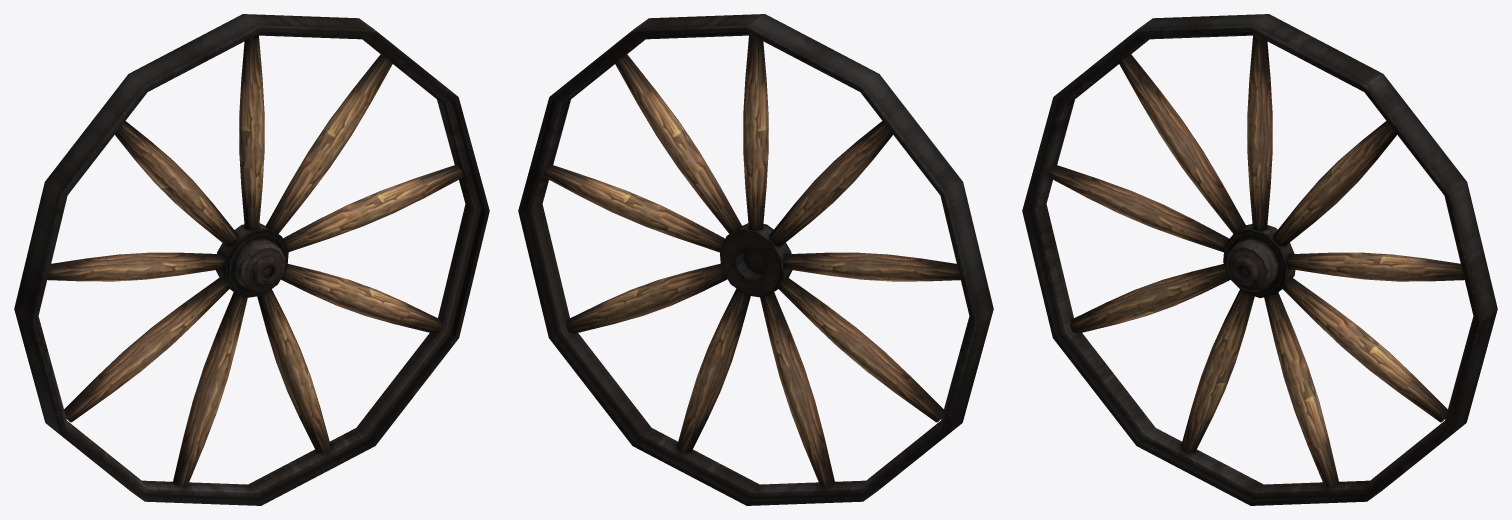
The model's file is Wheel01.FBX.
3 views of the same model, side by side, from view 1: azimuth 30°, elevation 25°; view 2: azimuth 150°, elevation 25°; view 3: azimuth 330°, elevation 25° (orthographic).
Visible parts, largest first — view 1: wheel; view 2: wheel; view 3: wheel.
Boxes of the visible parts, x1,y1,x2,y2 form: wheel: [14, 14, 489, 505]; wheel: [518, 14, 993, 505]; wheel: [1022, 14, 1497, 505].
Bounding box in the file's own units: 174 × 174 × 17.42.
